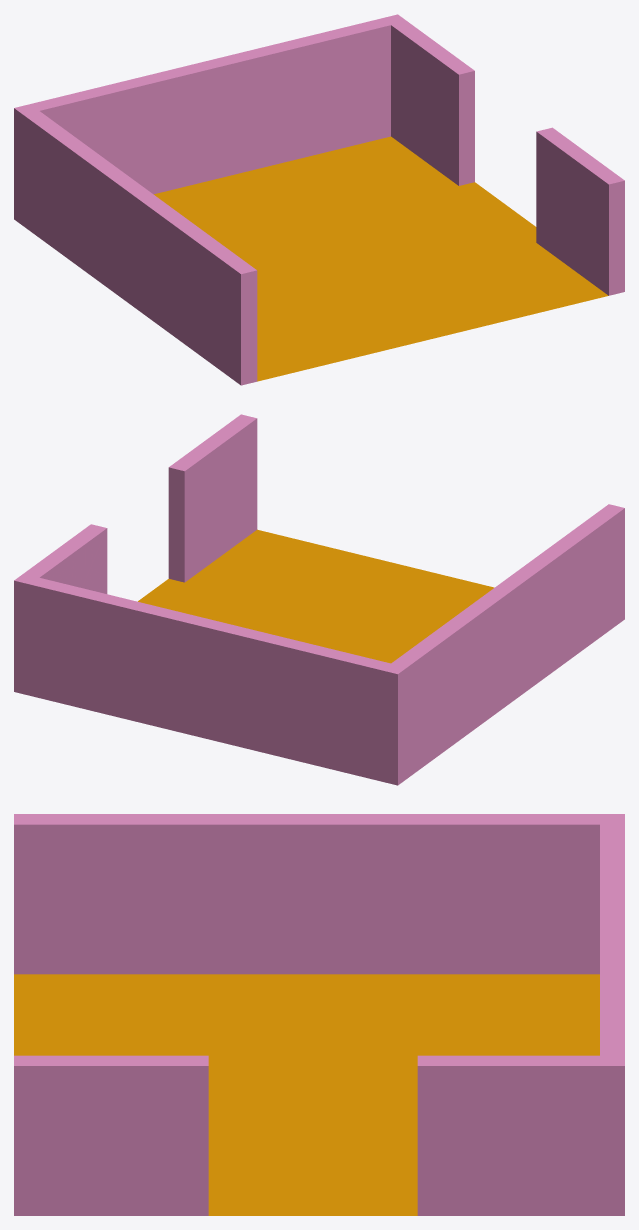
File: FP_Model_GroundAndWalls_Kyle.fbx
3 views of the same model, one above another, from view 1: azimuth 30°, elevation 25°; view 2: azimuth 150°, elevation 25°; view 3: azimuth 270°, elevation 25° (orthographic). The views are drawn at different scales.
Visible parts, largest first — view 1: Walls, Ground, SeparatedWall; view 2: Walls, Ground, SeparatedWall; view 3: Walls, Ground, SeparatedWall.
Part boxes in pixels (<box>): Walls: <box>14,14,474,385</box>; Ground: <box>154,136,608,381</box>; SeparatedWall: <box>536,127,624,295</box>; Walls: <box>14,504,624,785</box>; Ground: <box>138,529,494,663</box>; SeparatedWall: <box>168,414,257,582</box>; Walls: <box>14,814,624,1215</box>; Ground: <box>14,974,599,1215</box>; SeparatedWall: <box>14,1055,208,1215</box>.
Bounding box in the file's own units: 1083 × 300 × 1109.
